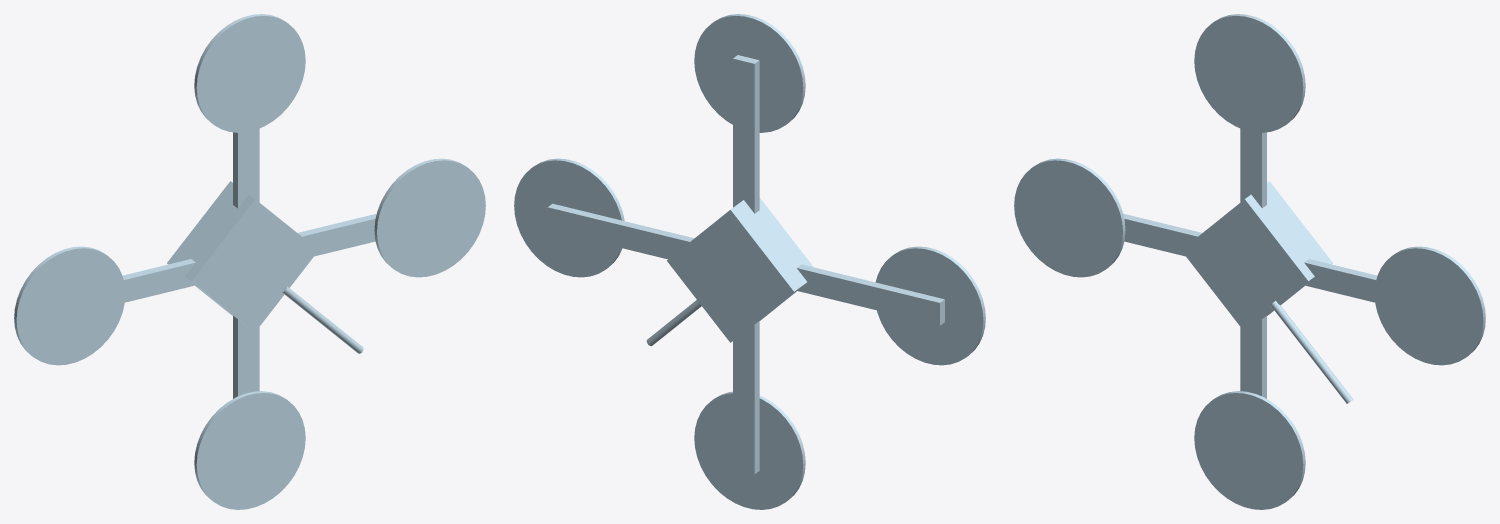
Rendered from Drone_Coarse_GLTF.gltf.
3 renders of one model, left to right at view 1: azimuth 30°, elevation 25°; view 2: azimuth 150°, elevation 25°; view 3: azimuth 330°, elevation 25°, orthographic.
Visible parts, largest first — view 1: Part 1; view 2: Part 1; view 3: Part 1.
Part boxes in pixels (x1,y1,x2,y2): Part 1: (14, 14, 485, 509); Part 1: (514, 14, 985, 509); Part 1: (1014, 14, 1485, 509).
Bounding box in the file's own units: 0.547 × 0.5466 × 0.054.
